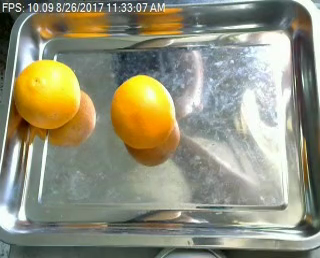Orange: (111, 73, 177, 149), (14, 59, 80, 129)
